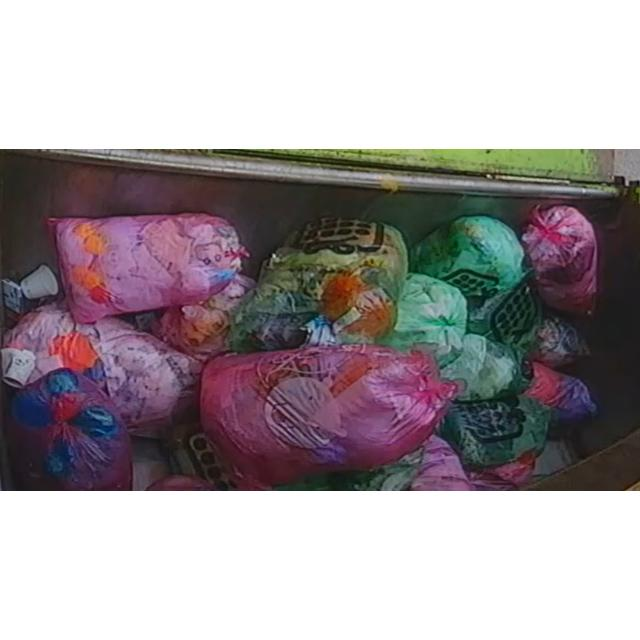general_trashbag: (230, 216, 408, 352), (410, 216, 524, 297), (379, 274, 468, 367), (440, 395, 549, 467), (468, 278, 541, 351), (441, 334, 519, 401)
other_trashbag: (200, 345, 459, 488), (0, 304, 202, 431), (49, 213, 249, 323), (9, 369, 131, 490), (152, 274, 255, 361), (521, 205, 598, 313)
